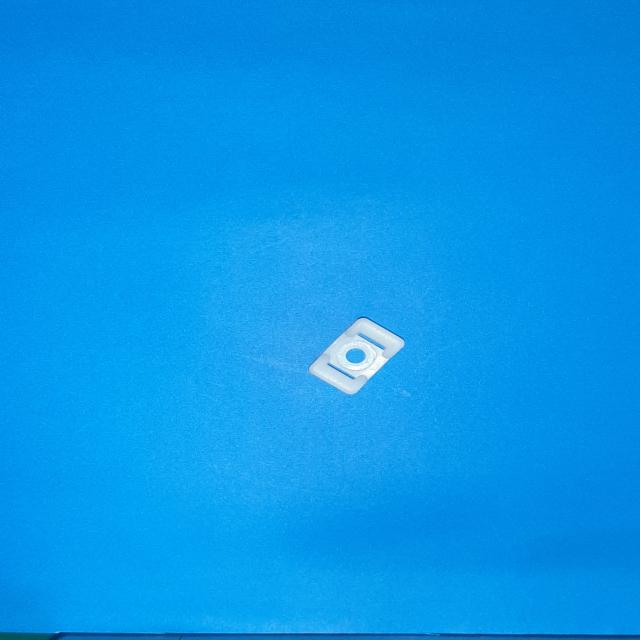true: (308, 318, 405, 395)
true_center: (346, 348, 365, 364)
